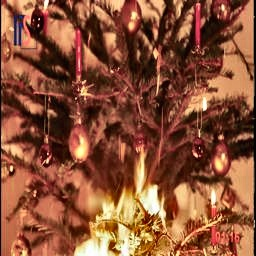fire: (69, 173, 168, 256)
